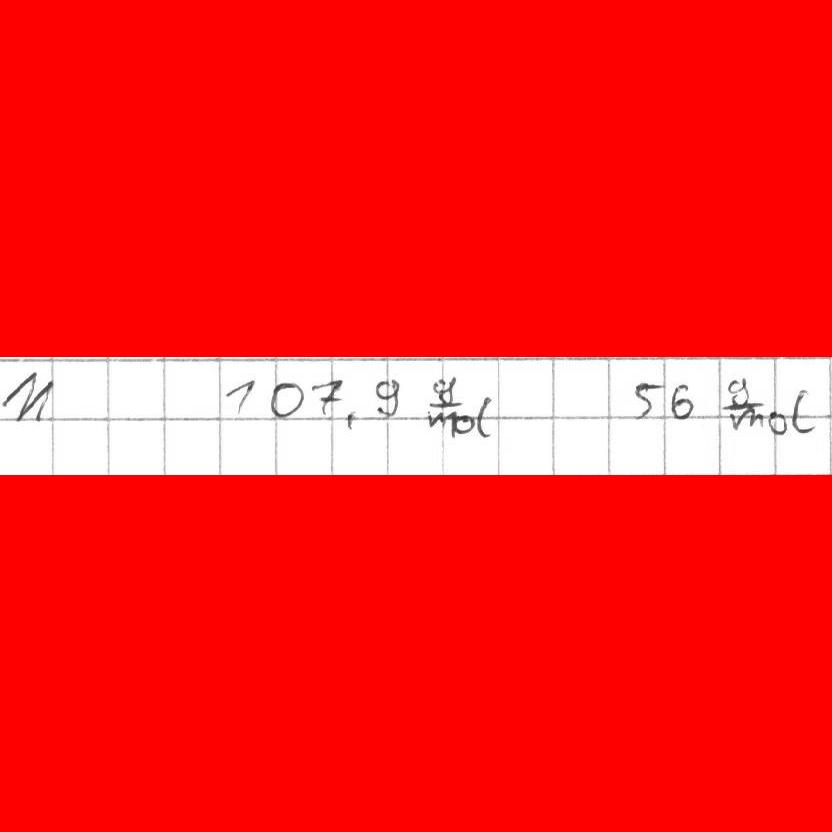Char: (1, 370, 55, 425), (267, 378, 304, 418), (222, 377, 259, 415), (631, 378, 664, 418), (371, 376, 403, 417), (312, 377, 345, 415), (791, 387, 817, 434), (669, 382, 693, 421), (728, 406, 764, 431), (473, 394, 492, 439), (723, 378, 754, 405), (429, 374, 456, 403), (768, 407, 789, 436), (426, 409, 457, 427), (455, 414, 475, 434), (721, 402, 764, 411), (344, 408, 358, 432), (427, 400, 463, 409)
